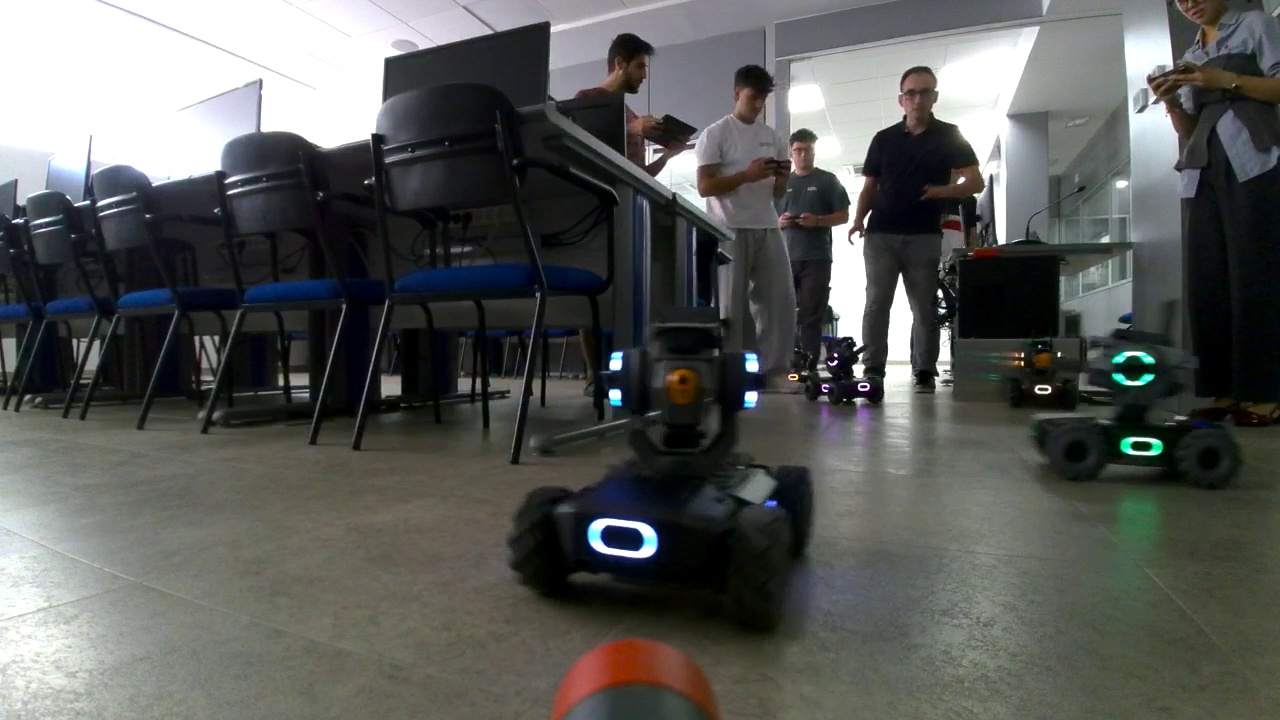robot: (510, 281, 815, 630), (1031, 329, 1242, 490), (804, 333, 882, 403), (1007, 334, 1077, 409), (785, 344, 814, 382)
